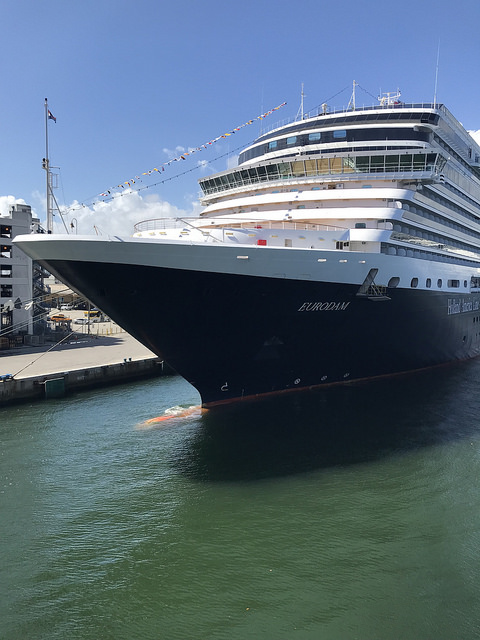cruise_ship: (18, 84, 480, 421)
